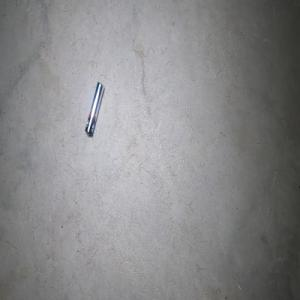Battery: (84, 81, 104, 136)
